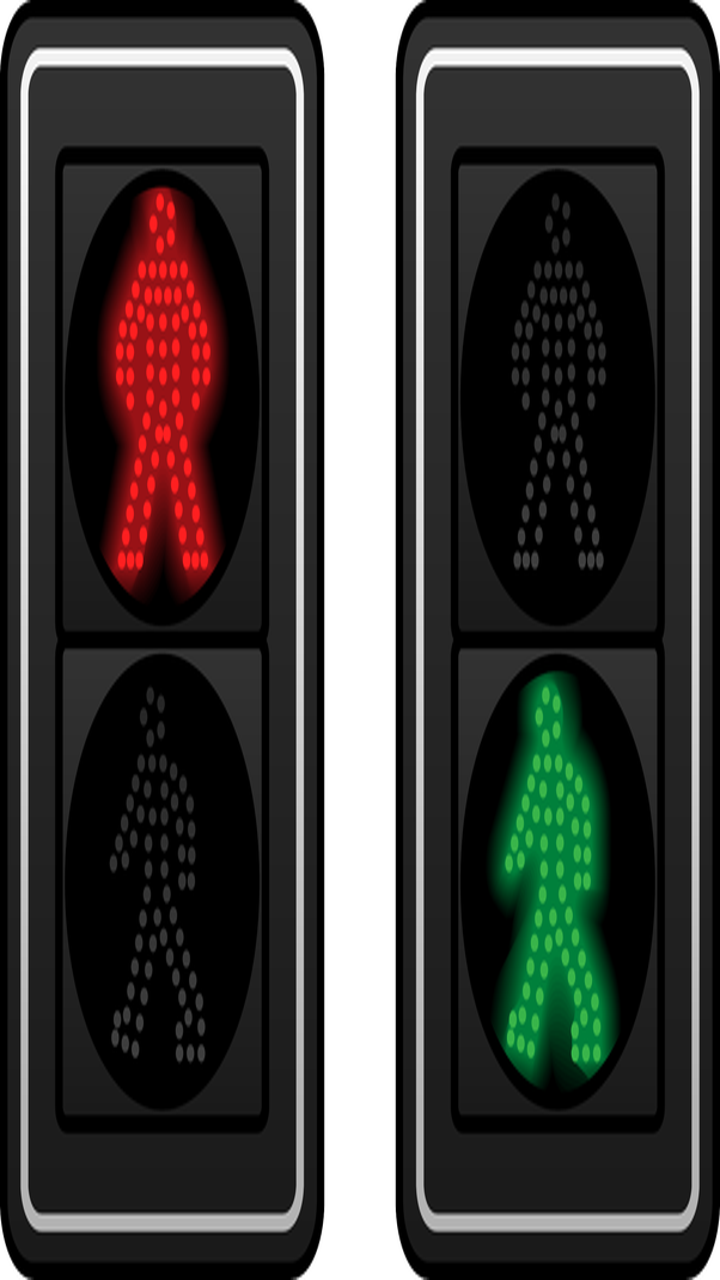Traffic sign: (452, 647, 702, 1096), (58, 148, 239, 596)
